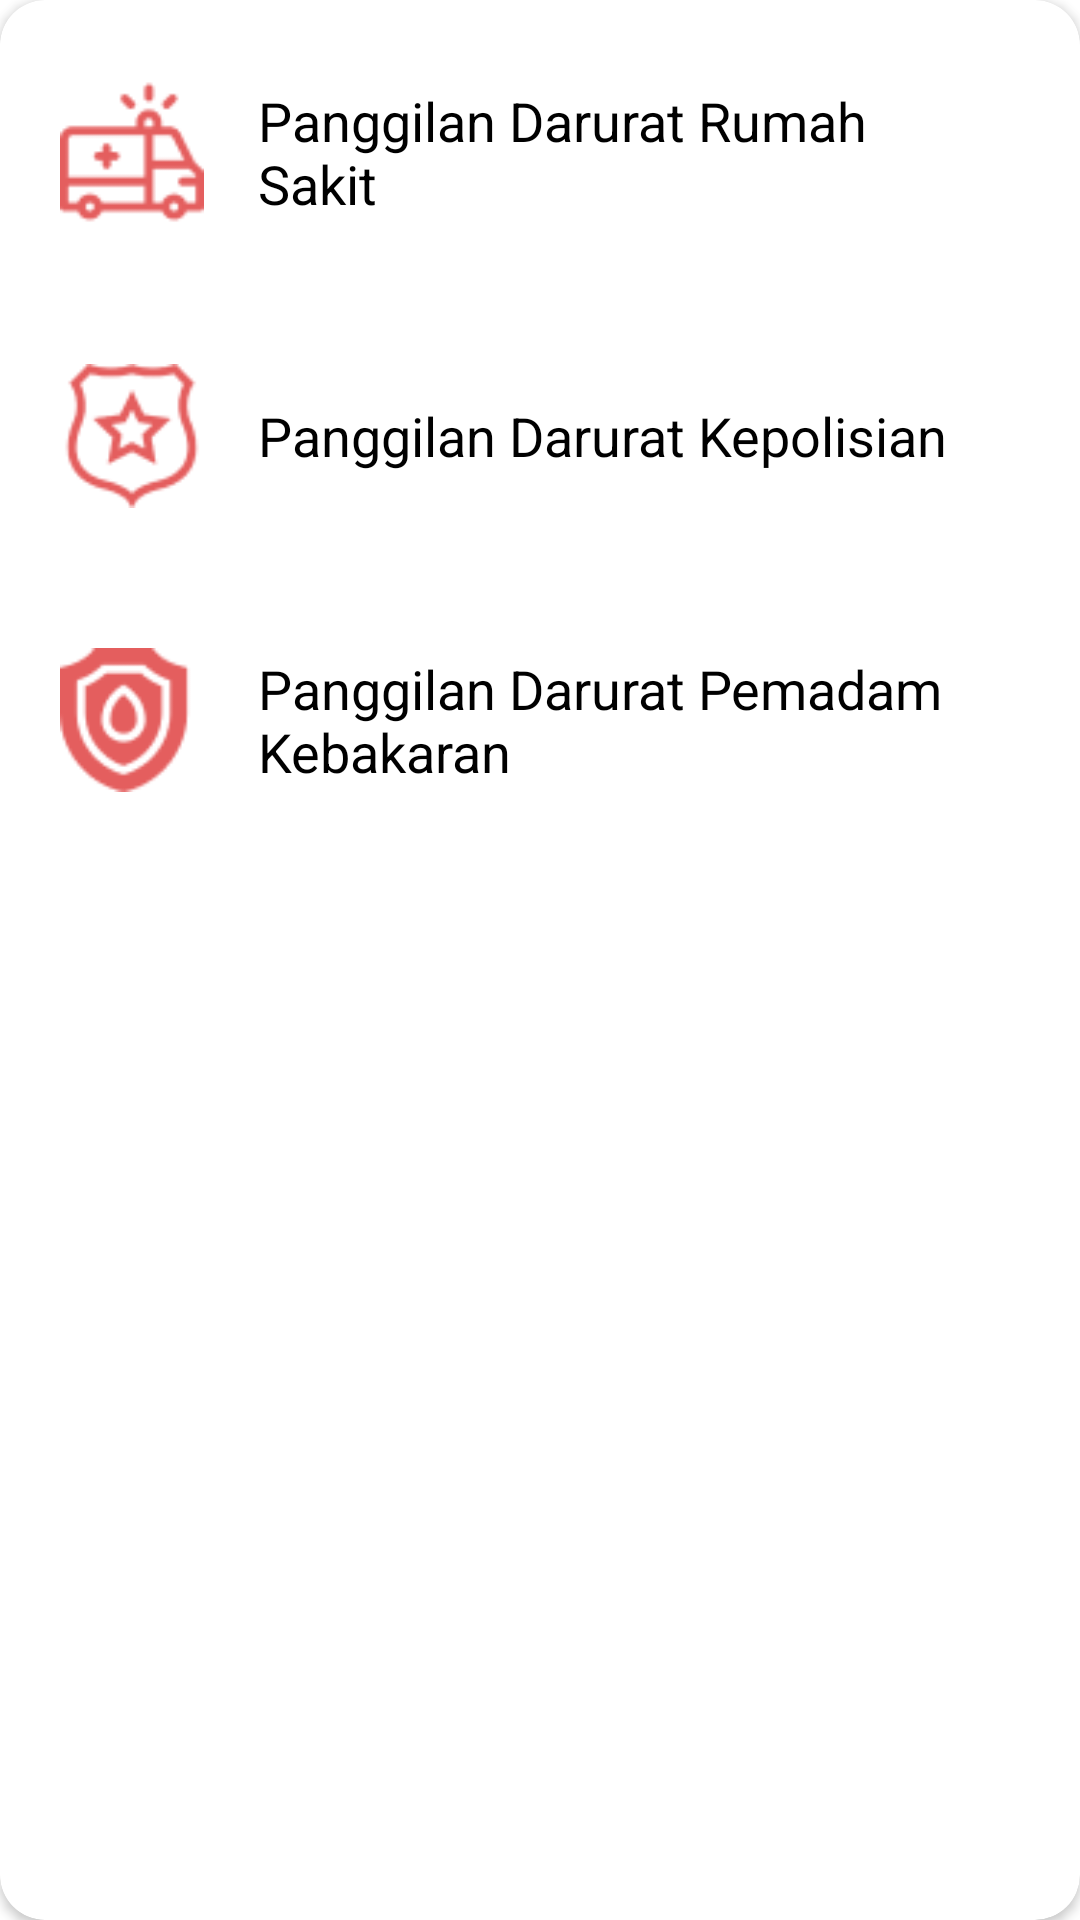

Point at icon controls on the screen. Image size 1080 × 1920, points as (x,y).
fire station: (124,720)
hospital: (132,152)
police: (132,436)
